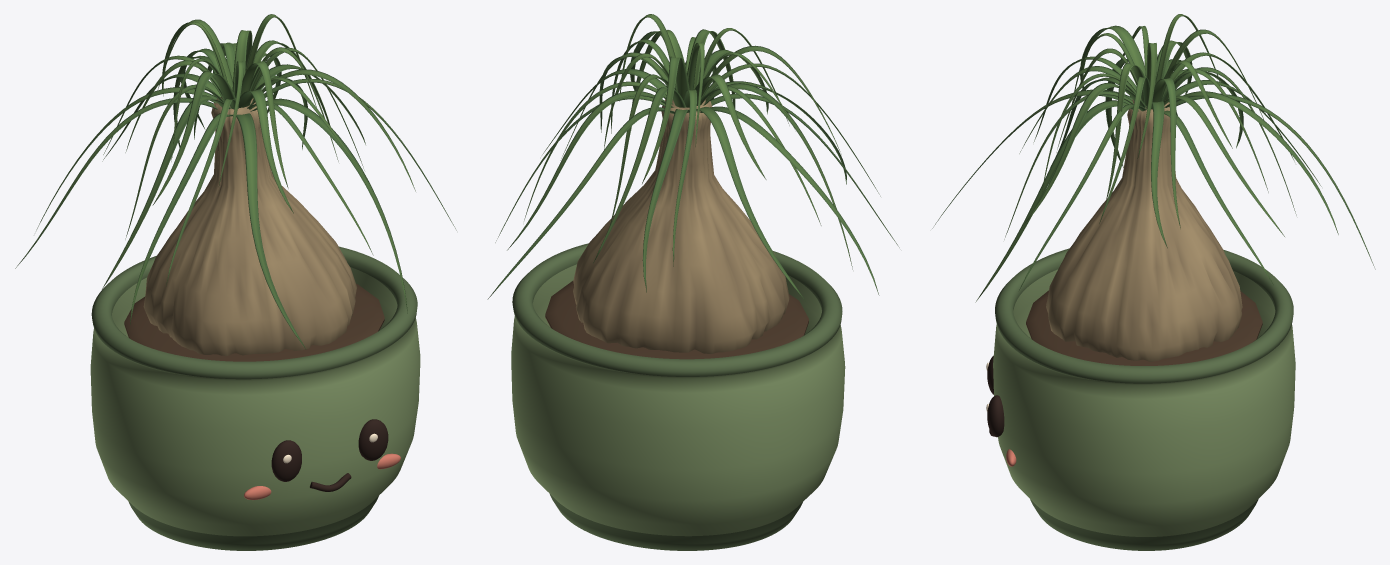
File: ponytail-palm-v1.glb
The picture shows the model from 3 angles, left to right: view 1: azimuth 30°, elevation 25°; view 2: azimuth 150°, elevation 25°; view 3: azimuth 270°, elevation 25°; orthographic projection. The views are drawn at different scales.
Parts seen in each view (by area): view 1: Wheel-thrown ceramic, Foliage draw mesh, Soil, Eye, Eye.001; view 2: Wheel-thrown ceramic, Foliage draw mesh, Soil; view 3: Wheel-thrown ceramic, Foliage draw mesh, Soil, Eye.001.
Part boxes in pixels (x1,y1,x2,y2): Wheel-thrown ceramic: (90,246,420,550); Foliage draw mesh: (15,14,456,355); Soil: (124,284,384,361); Eye: (271,440,301,481); Eye.001: (358,419,388,460); Wheel-thrown ceramic: (511,243,845,550); Foliage draw mesh: (487,14,899,353); Soil: (545,281,808,359); Wheel-thrown ceramic: (993,248,1295,550); Foliage draw mesh: (932,14,1375,361); Soil: (1026,290,1262,365); Eye.001: (987,395,1004,437).
Bounding box in the file's own units: 2.04 × 2.57 × 2.2.
